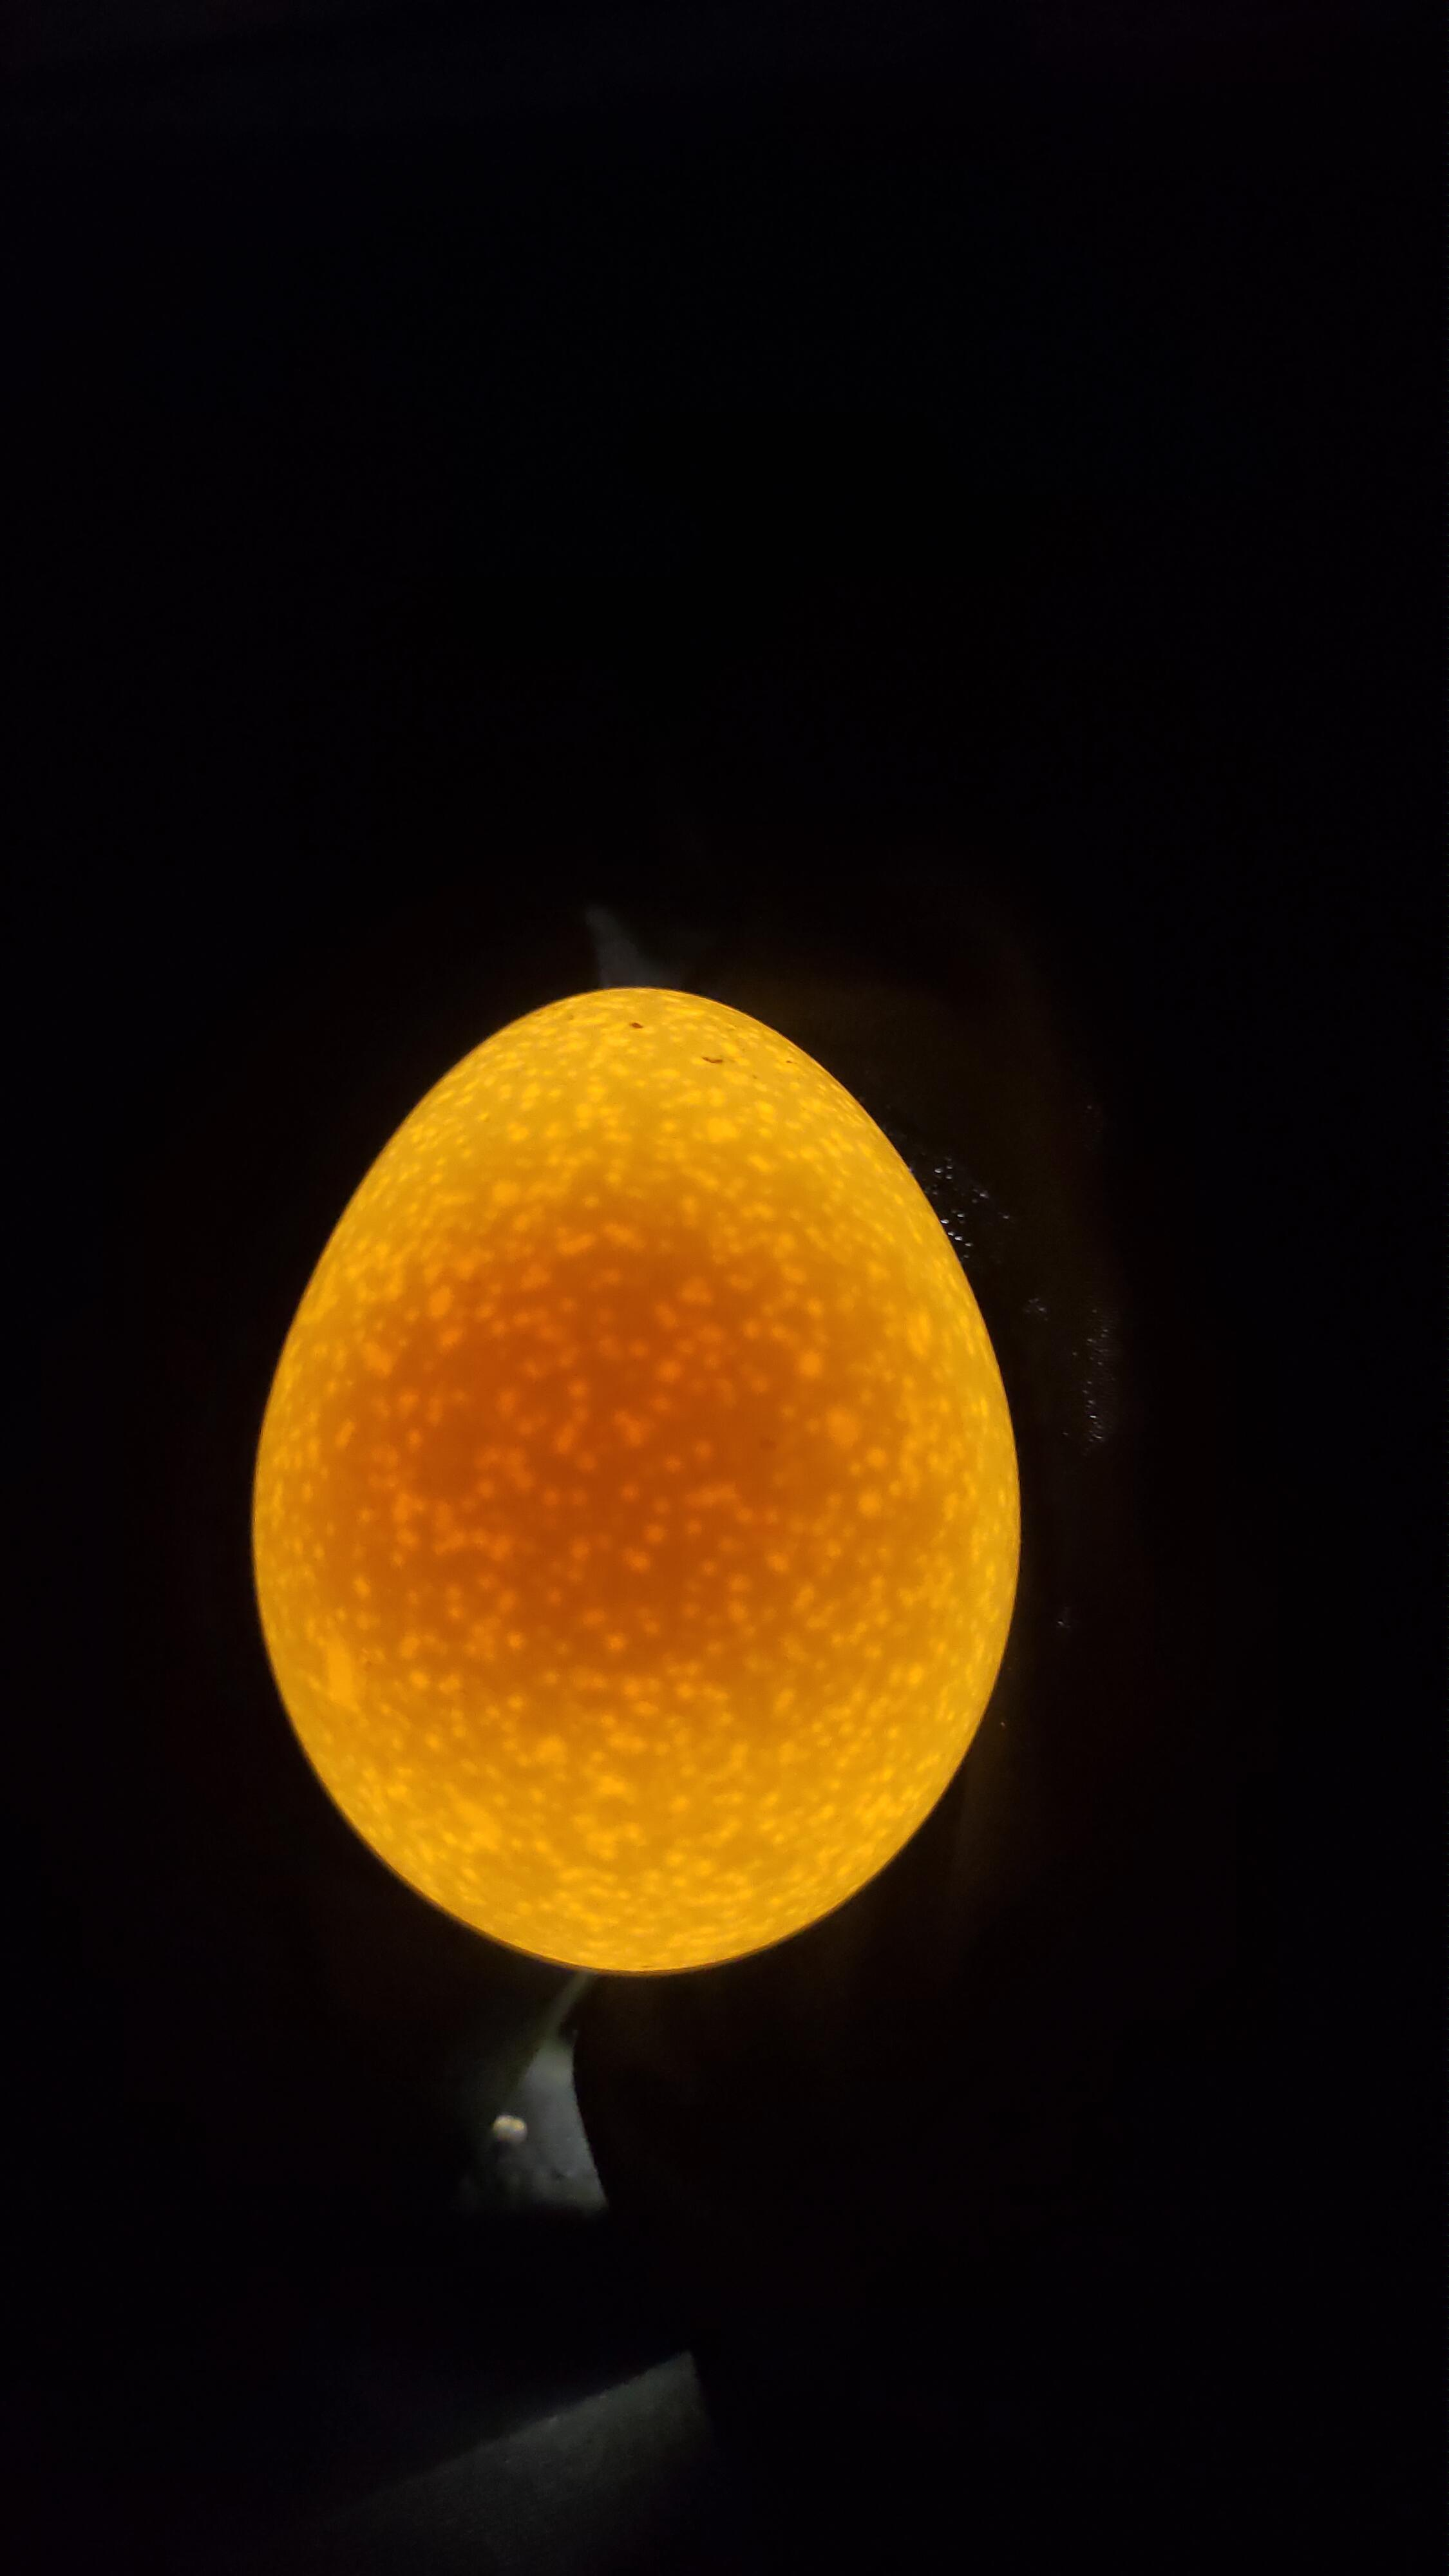A - Good: (193, 939, 1095, 2015)
